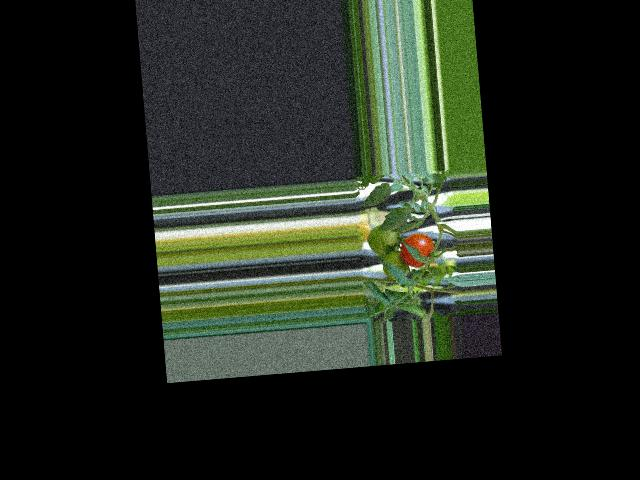tomato: (399, 231, 435, 268)
